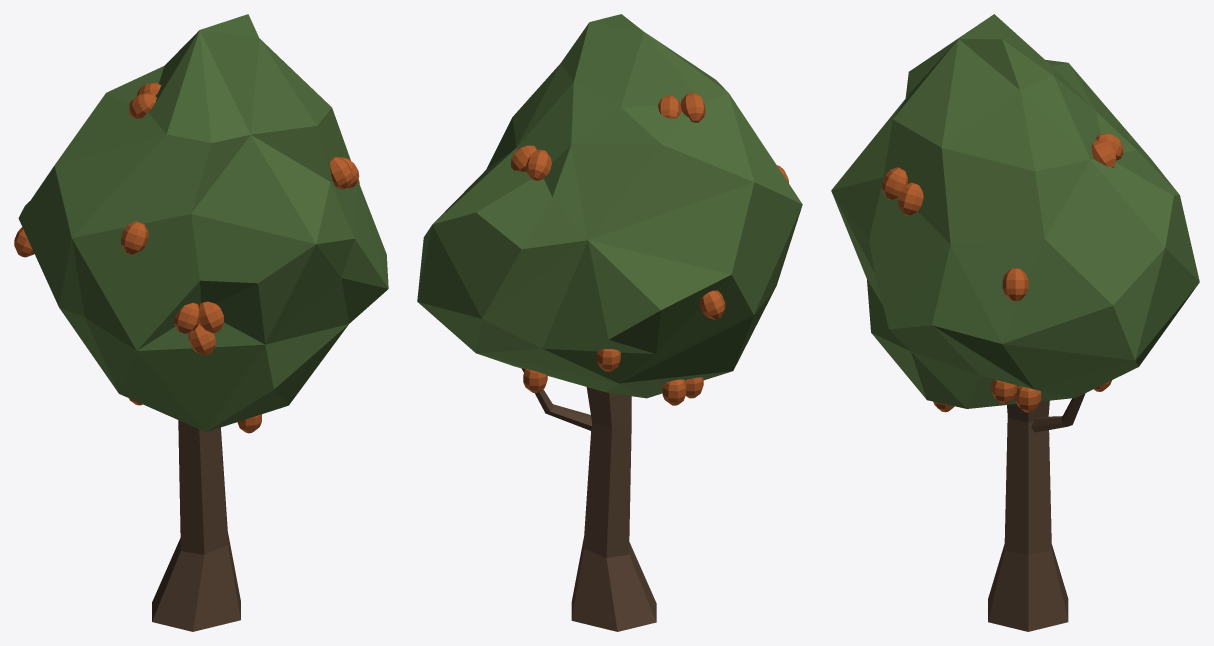
File: SM_Envr_Nature_Farm_Tree_Plum_Mature_02.fbx
The picture shows the model from 3 angles, left to right: view 1: azimuth 30°, elevation 25°; view 2: azimuth 150°, elevation 25°; view 3: azimuth 270°, elevation 25°; orthographic projection. The views are drawn at different scales.
Visible parts, largest first — view 1: SM_Envr_Nature_Farm_Tree_Plum_Mature_02; view 2: SM_Envr_Nature_Farm_Tree_Plum_Mature_02; view 3: SM_Envr_Nature_Farm_Tree_Plum_Mature_02.
Boxes of the visible parts, x1=… form: SM_Envr_Nature_Farm_Tree_Plum_Mature_02: x1=14, y1=14, x2=388, y2=631; SM_Envr_Nature_Farm_Tree_Plum_Mature_02: x1=417, y1=14, x2=802, y2=631; SM_Envr_Nature_Farm_Tree_Plum_Mature_02: x1=831, y1=14, x2=1199, y2=631.
Bounding box in the file's own units: 326 × 587 × 332.
